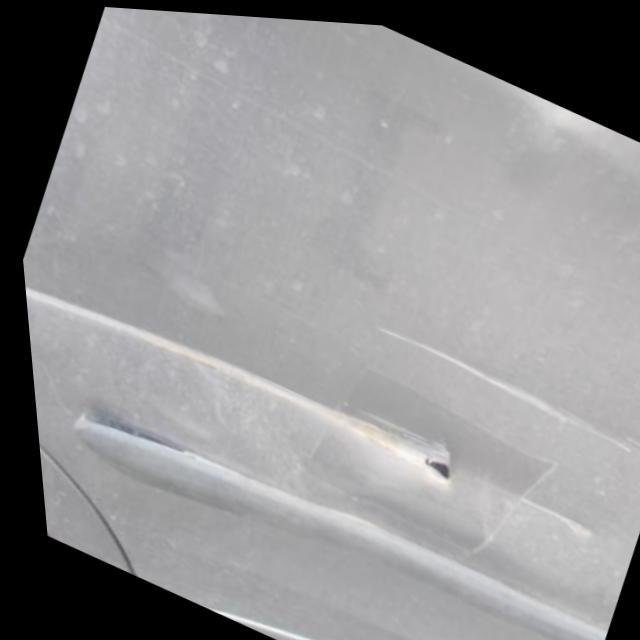crack: (413, 446, 453, 486)
scratch: (19, 269, 458, 496), (372, 313, 640, 461), (476, 459, 592, 543)
